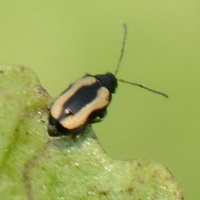insect: (48, 72, 167, 135)
